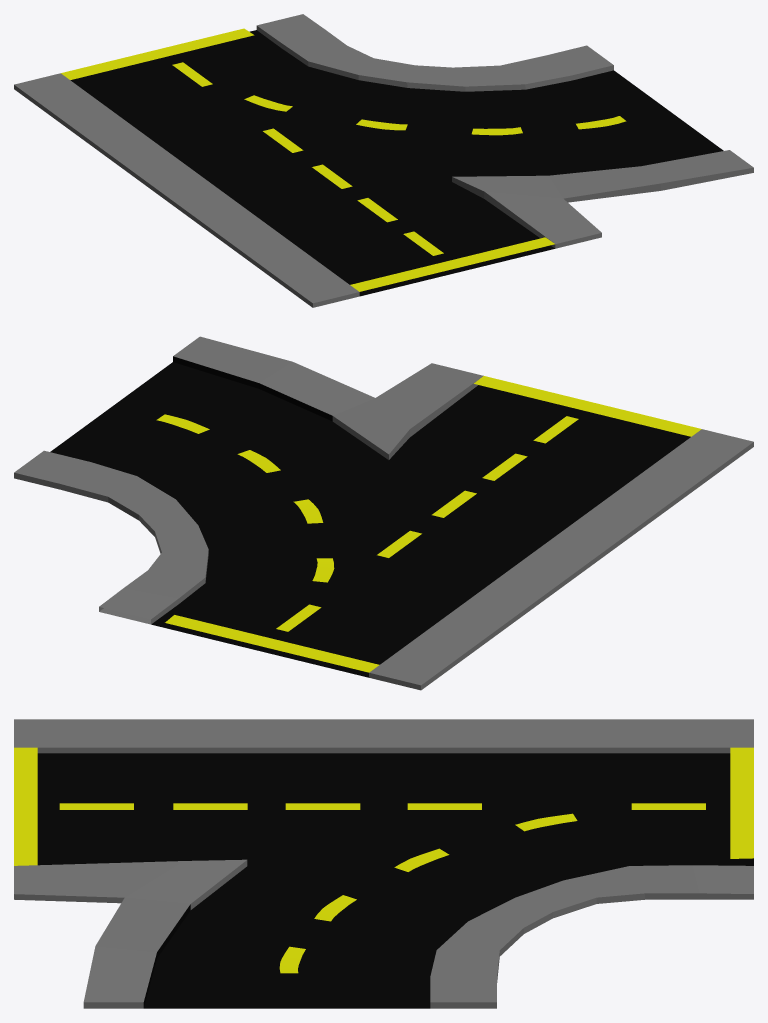
File: Two Path Road.fbx
3 renders of one model, top to bottom at view 1: azimuth 30°, elevation 25°; view 2: azimuth 150°, elevation 25°; view 3: azimuth 270°, elevation 25°, orthographic. The views are drawn at different scales.
Parts seen in each view (by area): view 1: polySurface388; view 2: polySurface388; view 3: polySurface388.
Part boxes in pixels (x1,y1,x2,y2): polySurface388: (14, 14, 753, 307); polySurface388: (14, 336, 753, 690); polySurface388: (14, 719, 753, 1008).
Bounding box in the file's own units: 20.1 × 0.3057 × 22.17.
